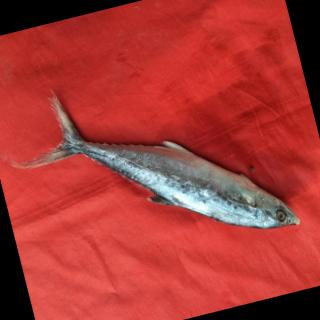Ikan: (1, 43, 310, 301)
